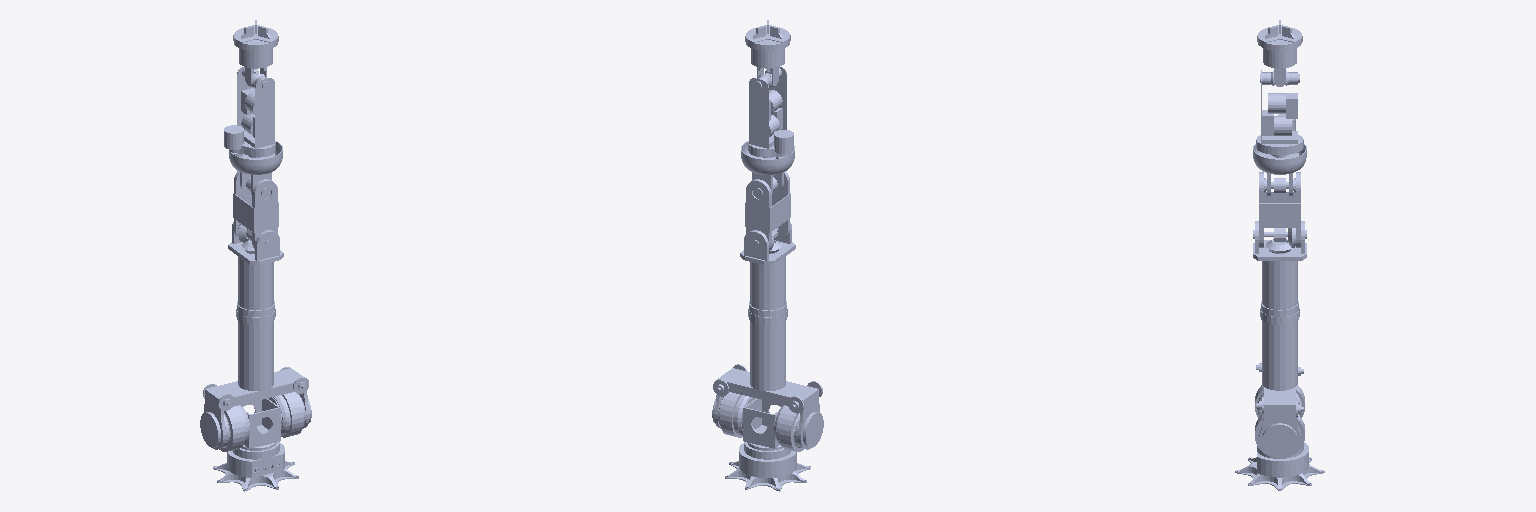
robot.urdf — SHERPA_ARM_V1.52:
<robot
  name="SHERPA_ARM_V1.52">
  <link
    name="sherpa_arm_base">
    <inertial>
      <origin
        xyz="-3.3669327527676E-07 0.034639515529795 -0.00201572680083581"
        rpy="0 0 0" />
      <mass
        value="0.868958217935149" />
      <inertia
        ixx="0.00124226700271398"
        ixy="2.15092356405084E-09"
        ixz="-1.52708651290227E-08"
        iyy="0.00178270756811501"
        iyz="-6.69775734549582E-06"
        izz="0.00133541020911775" />
    </inertial>
    <visual>
      <origin
        xyz="0 0 0"
        rpy="0 0 0" />
      <geometry>
        <mesh
          filename="package://SHERPA_ARM_V1.52/meshes/sherpa_arm_base.STL" />
      </geometry>
      <material
        name="">
        <color
          rgba="0.792156862745098 0.819607843137255 0.933333333333333 1" />
      </material>
    </visual>
    <collision>
      <origin
        xyz="0 0 0"
        rpy="0 0 0" />
      <geometry>
        <mesh
          filename="package://SHERPA_ARM_V1.52/meshes/sherpa_arm_base.STL" />
      </geometry>
    </collision>
  </link>
  <link
    name="Shoulder_Body1">
    <inertial>
      <origin
        xyz="-2.02873738631739E-17 0.0633510919990362 1.24856727474778E-17"
        rpy="0 0 0" />
      <mass
        value="1.3610231356846" />
      <inertia
        ixx="0.00204798986770992"
        ixy="3.10538338306066E-20"
        ixz="2.67838469900394E-19"
        iyy="0.00766938604465595"
        iyz="-2.4617980732633E-20"
        izz="0.00793382878414882" />
    </inertial>
    <visual>
      <origin
        xyz="0 0 0"
        rpy="0 0 0" />
      <geometry>
        <mesh
          filename="package://SHERPA_ARM_V1.52/meshes/Shoulder_Body1.STL" />
      </geometry>
      <material
        name="">
        <color
          rgba="0.792156862745098 0.819607843137255 0.933333333333333 1" />
      </material>
    </visual>
    <collision>
      <origin
        xyz="0 0 0"
        rpy="0 0 0" />
      <geometry>
        <mesh
          filename="package://SHERPA_ARM_V1.52/meshes/Shoulder_Body1.STL" />
      </geometry>
    </collision>
  </link>
  <joint
    name="Jnt1"
    type="continuous">
    <origin
      xyz="0 0 0.064"
      rpy="1.5707963267949 0 0" />
    <parent
      link="sherpa_arm_base" />
    <child
      link="Shoulder_Body1" />
    <axis
      xyz="0 -1 0" />
  </joint>
  <link
    name="Shoulder_Body2">
    <inertial>
      <origin
        xyz="-2.44585806867608E-17 0.0561237063753066 -6.03039108523838E-20"
        rpy="0 0 0" />
      <mass
        value="0.461012138776829" />
      <inertia
        ixx="0.000725825756389273"
        ixy="-5.42920224916581E-06"
        ixz="-2.50416350417845E-06"
        iyy="0.00354921902923386"
        iyz="4.38228613230914E-06"
        izz="0.00377850861402635" />
    </inertial>
    <visual>
      <origin
        xyz="0 0 0"
        rpy="0 0 0" />
      <geometry>
        <mesh
          filename="package://SHERPA_ARM_V1.52/meshes/Shoulder_Body2.STL" />
      </geometry>
      <material
        name="">
        <color
          rgba="0.792156862745098 0.819607843137255 0.933333333333333 1" />
      </material>
    </visual>
    <collision>
      <origin
        xyz="0 0 0"
        rpy="0 0 0" />
      <geometry>
        <mesh
          filename="package://SHERPA_ARM_V1.52/meshes/Shoulder_Body2.STL" />
      </geometry>
    </collision>
  </link>
  <joint
    name="Jnt2"
    type="continuous">
    <origin
      xyz="0 0.069 0"
      rpy="0 0 0" />
    <parent
      link="Shoulder_Body1" />
    <child
      link="Shoulder_Body2" />
    <axis
      xyz="1 0 0" />
  </joint>
  <link
    name="Upperarm">
    <inertial>
      <origin
        xyz="-2.25643517613142E-17 0.202528238336318 -2.41089213160412E-17"
        rpy="0 0 0" />
      <mass
        value="1.92164159269796" />
      <inertia
        ixx="0.0232608791865304"
        ixy="-5.97586501704561E-19"
        ixz="-1.11982602125082E-20"
        iyy="0.00175127676843198"
        iyz="5.83776292828043E-19"
        izz="0.0234925956150349" />
    </inertial>
    <visual>
      <origin
        xyz="0 0 0"
        rpy="0 0 0" />
      <geometry>
        <mesh
          filename="package://SHERPA_ARM_V1.52/meshes/Upperarm.STL" />
      </geometry>
      <material
        name="">
        <color
          rgba="0.792156862745098 0.819607843137255 0.933333333333333 1" />
      </material>
    </visual>
    <collision>
      <origin
        xyz="0 0 0"
        rpy="0 0 0" />
      <geometry>
        <mesh
          filename="package://SHERPA_ARM_V1.52/meshes/Upperarm.STL" />
      </geometry>
    </collision>
  </link>
  <joint
    name="Jnt3"
    type="continuous">
    <origin
      xyz="0 0.062 0"
      rpy="0 1.5707963267949 0" />
    <parent
      link="Shoulder_Body2" />
    <child
      link="Upperarm" />
    <axis
      xyz="0 -1 0" />
  </joint>
  <link
    name="Elbow">
    <inertial>
      <origin
        xyz="0.00421347006164395 0.0481616790865345 -4.03816934331018E-18"
        rpy="0 0 0" />
      <mass
        value="0.241977859866536" />
      <inertia
        ixx="0.000608982370443538"
        ixy="-4.91040330453884E-05"
        ixz="2.98948779793128E-20"
        iyy="0.000430893293415839"
        iyz="1.09600870754735E-19"
        izz="0.000872122518006868" />
    </inertial>
    <visual>
      <origin
        xyz="0 0 0"
        rpy="0 0 0" />
      <geometry>
        <mesh
          filename="package://SHERPA_ARM_V1.52/meshes/Elbow.STL" />
      </geometry>
      <material
        name="">
        <color
          rgba="0.792156862745098 0.819607843137255 0.933333333333333 1" />
      </material>
    </visual>
    <collision>
      <origin
        xyz="0 0 0"
        rpy="0 0 0" />
      <geometry>
        <mesh
          filename="package://SHERPA_ARM_V1.52/meshes/Elbow.STL" />
      </geometry>
    </collision>
  </link>
  <joint
    name="Jnt4"
    type="revolute">
    <origin
      xyz="0 0.388 0"
      rpy="0 0 0" />
    <parent
      link="Upperarm" />
    <child
      link="Elbow" />
    <axis
      xyz="-1 0 0" />
    <limit
      effort="30"
      velocity="1.0"
      lower="-1.509"
      upper="0" />
  </joint>
  <link
    name="Underarm_Body1">
    <inertial>
      <origin
        xyz="4.69013910176955E-15 0.0396922391784125 3.24896049680367E-07"
        rpy="0 0 0" />
      <mass
        value="0.235364102335574" />
      <inertia
        ixx="0.000380724584362011"
        ixy="1.13176067540291E-17"
        ixz="-7.5482713879948E-13"
        iyy="0.0002820034248728"
        iyz="7.81388860203566E-10"
        izz="0.00043293948679229" />
    </inertial>
    <visual>
      <origin
        xyz="0 0 0"
        rpy="0 0 0" />
      <geometry>
        <mesh
          filename="package://SHERPA_ARM_V1.52/meshes/Underarm_Body1.STL" />
      </geometry>
      <material
        name="">
        <color
          rgba="0.792156862745098 0.819607843137255 0.933333333333333 1" />
      </material>
    </visual>
    <collision>
      <origin
        xyz="0 0 0"
        rpy="0 0 0" />
      <geometry>
        <mesh
          filename="package://SHERPA_ARM_V1.52/meshes/Underarm_Body1.STL" />
      </geometry>
    </collision>
  </link>
  <joint
    name="Jnt4_2"
    type="continuous">
    <mimic
      joint="Jnt4" /> 
    <origin
      xyz="0 0.12 0"
      rpy="0 -1.4456E-08 0" />
    <parent
      link="Elbow" />
    <child
      link="Underarm_Body1" />
    <axis
      xyz="-1 0 0" />
  </joint>
  <link
    name="Underarm_Body2">
    <inertial>
      <origin
        xyz="-0.00200948011675322 -0.0642047396388415 -0.00758771456447846"
        rpy="0 0 0" />
      <mass
        value="0.476075097516363" />
      <inertia
        ixx="0.00103791177874631"
        ixy="-1.59497371102587E-06"
        ixz="3.87750708145077E-05"
        iyy="0.000502993408790888"
        iyz="-8.55606312695015E-05"
        izz="0.00105234138824424" />
    </inertial>
    <visual>
      <origin
        xyz="0 0 0"
        rpy="0 0 0" />
      <geometry>
        <mesh
          filename="package://SHERPA_ARM_V1.52/meshes/Underarm_Body2.STL" />
      </geometry>
      <material
        name="">
        <color
          rgba="0.792156862745098 0.819607843137255 0.933333333333333 1" />
      </material>
    </visual>
    <collision>
      <origin
        xyz="0 0 0"
        rpy="0 0 0" />
      <geometry>
        <mesh
          filename="package://SHERPA_ARM_V1.52/meshes/Underarm_Body2.STL" />
      </geometry>
    </collision>
  </link>
  <joint
    name="Jnt5"
    type="continuous">
    <origin
      xyz="0 0.078 0"
      rpy="-1.22460635382238E-16 -1.44561631360761E-08 -3.14159265358979" />
    <parent
      link="Underarm_Body1" />
    <child
      link="Underarm_Body2" />
    <axis
      xyz="0 1 0" />
  </joint>
  <link
    name="Wrist">
    <inertial>
      <origin
        xyz="-2.15887864772967E-16 1.11022302462516E-16 1.55468482739315E-15"
        rpy="0 0 0" />
      <mass
        value="0.0417739275927169" />
      <inertia
        ixx="3.92091488375942E-06"
        ixy="-3.69567868605212E-20"
        ixz="-9.31929182741574E-21"
        iyy="3.08596770840898E-05"
        iyz="1.91282210289924E-22"
        izz="3.08886771258751E-05" />
    </inertial>
    <visual>
      <origin
        xyz="0 0 0"
        rpy="0 0 0" />
      <geometry>
        <mesh
          filename="package://SHERPA_ARM_V1.52/meshes/Wrist.STL" />
      </geometry>
      <material
        name="">
        <color
          rgba="0.792156862745098 0.819607843137255 0.933333333333333 1" />
      </material>
    </visual>
    <collision>
      <origin
        xyz="0 0 0"
        rpy="0 0 0" />
      <geometry>
        <mesh
          filename="package://SHERPA_ARM_V1.52/meshes/Wrist.STL" />
      </geometry>
    </collision>
  </link>
  <joint
    name="Jnt6"
    type="continuous">
    <origin
      xyz="0 -0.1838 0"
      rpy="0 0 0" />
    <parent
      link="Underarm_Body2" />
    <child
      link="Wrist" />
    <axis
      xyz="1 0 0" />
  </joint>
  <link
    name="Gripper">
    <inertial>
      <origin
        xyz="0.000184126801445899 0.0744500238530421 1.86302440355496E-16"
        rpy="0 0 0" />
      <mass
        value="0.3903853435865" />
      <inertia
        ixx="0.000409882584608251"
        ixy="-5.3514978490261E-06"
        ixz="-1.8401715384104E-20"
        iyy="0.000335842241195587"
        iyz="1.32488242815761E-21"
        izz="0.000413623214329272" />
    </inertial>
    <visual>
      <origin
        xyz="0 0 0"
        rpy="0 0 0" />
      <geometry>
        <mesh
          filename="package://SHERPA_ARM_V1.52/meshes/Gripper.STL" />
      </geometry>
      <material
        name="">
        <color
          rgba="0.792156862745098 0.819607843137255 0.933333333333333 1" />
      </material>
    </visual>
    <collision>
      <origin
        xyz="0 0 0"
        rpy="0 0 0" />
      <geometry>
        <mesh
          filename="package://SHERPA_ARM_V1.52/meshes/Gripper.STL" />
      </geometry>
    </collision>
  </link>
  <joint
    name="Jnt7"
    type="continuous">
    <origin
      xyz="0 0 0"
      rpy="3.1416 1.5708 0" />
    <parent
      link="Wrist" />
    <child
      link="Gripper" />
    <axis
      xyz="-1 0 0" />
  </joint>
</robot>

--- What the picture shows (computed from the rendered views, not written in the file) ---
The picture shows the robot from 3 angles, left to right: view 1: azimuth 30°, elevation 25°; view 2: azimuth 150°, elevation 25°; view 3: azimuth 270°, elevation 25°; orthographic projection.
Model SHERPA_ARM_V1.52 with 9 links and 8 joints (1 revolute, 7 continuous), rooted at sherpa_arm_base, posed all joints at 0.
Visible links, largest first — view 1: Upperarm, Shoulder_Body1, Underarm_Body2, Shoulder_Body2, sherpa_arm_base, Elbow, Gripper, Underarm_Body1; view 2: Upperarm, Shoulder_Body1, Shoulder_Body2, Underarm_Body2, sherpa_arm_base, Elbow, Gripper, Underarm_Body1; view 3: Upperarm, Shoulder_Body2, Underarm_Body2, sherpa_arm_base, Elbow, Gripper, Underarm_Body1, Shoulder_Body1.
Boxes of the visible links, <box> form: Upperarm: <box>228,222,283,390</box>; Shoulder_Body1: <box>211,392,305,451</box>; Underarm_Body2: <box>224,67,275,156</box>; Shoulder_Body2: <box>200,367,311,449</box>; sherpa_arm_base: <box>213,442,298,491</box>; Elbow: <box>233,171,278,249</box>; Gripper: <box>233,20,278,86</box>; Underarm_Body1: <box>229,141,282,198</box>; Upperarm: <box>740,222,795,390</box>; Shoulder_Body1: <box>718,392,812,451</box>; Shoulder_Body2: <box>712,364,823,449</box>; Underarm_Body2: <box>748,67,793,158</box>; sherpa_arm_base: <box>725,442,810,491</box>; Elbow: <box>745,171,790,250</box>; Gripper: <box>745,20,790,86</box>; Underarm_Body1: <box>741,141,794,198</box>; Upperarm: <box>1253,221,1306,390</box>; Shoulder_Body2: <box>1256,363,1303,457</box>; Underarm_Body2: <box>1256,70,1303,154</box>; sherpa_arm_base: <box>1235,442,1324,490</box>; Elbow: <box>1259,172,1300,247</box>; Gripper: <box>1257,20,1302,86</box>; Underarm_Body1: <box>1253,144,1306,196</box>; Shoulder_Body1: <box>1255,385,1304,457</box>.
Size in the robot's own frame: 0.2395 by 0.1979 by 1.09 metres.
Meshes: 9 distinct files referenced, 9 mesh visuals loaded (9 binary STL).